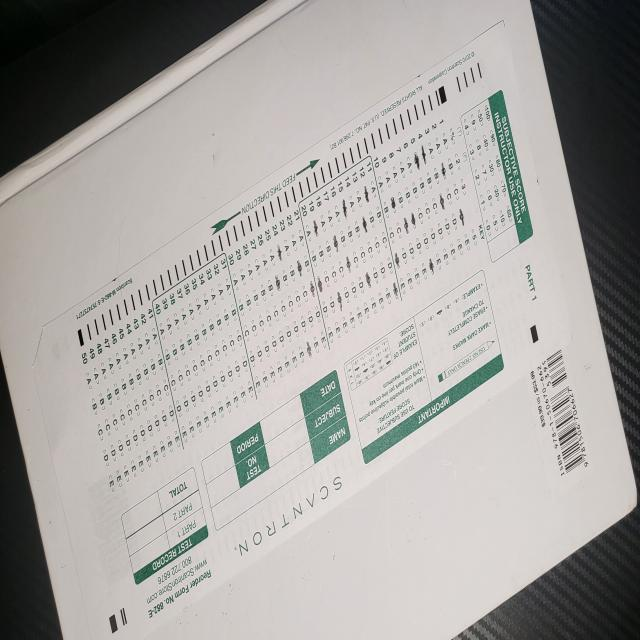scantron: (32, 18, 574, 640)
